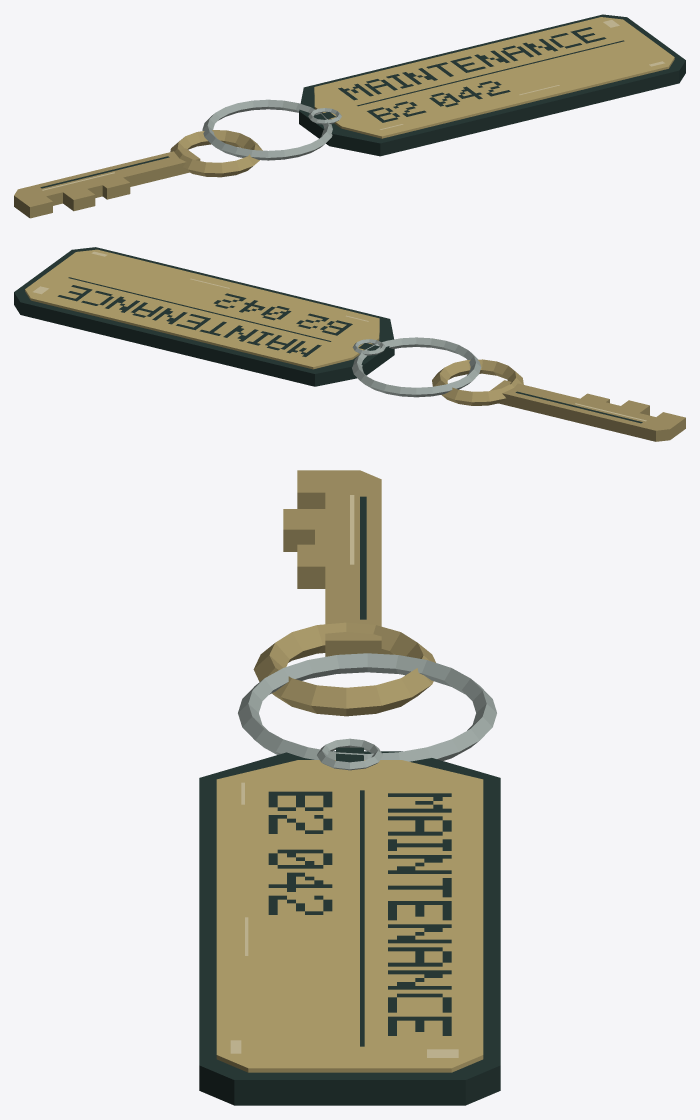
The model's file is maintenance-key-v114.glb.
3 views of the same model, one above another, from view 1: azimuth 30°, elevation 25°; view 2: azimuth 150°, elevation 25°; view 3: azimuth 270°, elevation 25° (orthographic). The views are drawn at different scales.
Visible parts, largest first — view 1: maintenance-key-v114; view 2: maintenance-key-v114; view 3: maintenance-key-v114.
Boxes of the visible parts, bbox=[...] form: maintenance-key-v114: bbox=[14, 14, 685, 218]; maintenance-key-v114: bbox=[14, 247, 685, 441]; maintenance-key-v114: bbox=[199, 470, 500, 1105].
Bounding box in the file's own units: 0.415 × 0.0121 × 0.086.
